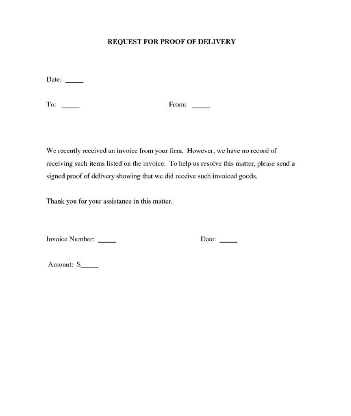textline: (189, 105, 219, 112), (216, 237, 242, 245), (80, 262, 103, 271), (96, 238, 121, 246), (62, 76, 87, 83), (60, 104, 83, 111)
